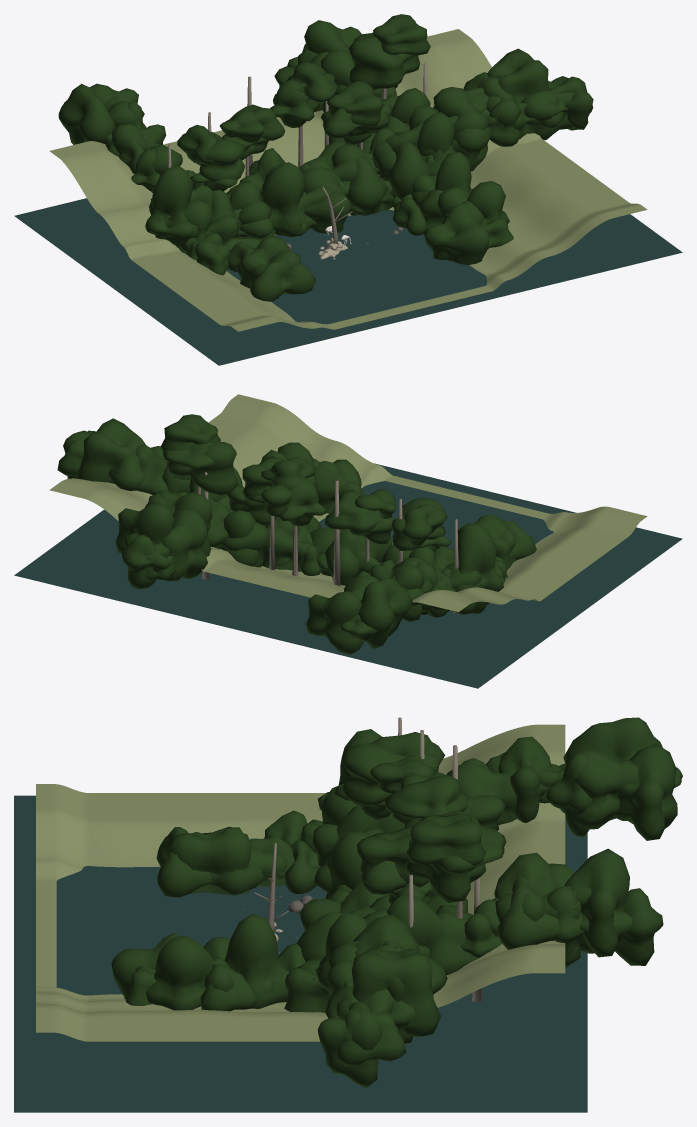
3 views of the same model, one above another, from view 1: azimuth 30°, elevation 25°; view 2: azimuth 150°, elevation 25°; view 3: azimuth 270°, elevation 25° (orthographic). The views are drawn at different scales.
Parts seen in each view (by area): view 1: Water.001, Ground.001, ShrubR_1.001, BCanopy_4_0.001, Shrub_20.001, ShrubL_23.001, Shrub_62.001, Shrub_1.001, ShrubL_0.001, BCanopy_4_2.001, Shrub_40.001, BCanopy_2_2.001 (+44 smaller); view 2: Water.001, Ground.001, Shrub_62.001, ShrubL_23.001, ShrubL_24.001, ShrubR_34.001, Shrub_1.001, BCanopy_4_0.001, ShrubR_36.001, ShrubR_1.001, ShrubR_39.001, BCanopy_4_2.001 (+30 smaller); view 3: Water.001, Ground.001, Shrub_62.001, ShrubR_36.001, ShrubL_24.001, ShrubR_8.001, ShrubR_2.001, BCanopy_4_2.001, ShrubL_1.001, ShrubL_22.001, Shrub_69.001, ShrubL_23.001 (+44 smaller).
Boxes of the visible parts, bbox=[...] form: Water.001: bbox=[14, 198, 682, 365]; Ground.001: bbox=[49, 29, 647, 331]; ShrubR_1.001: bbox=[424, 203, 490, 265]; BCanopy_4_0.001: bbox=[348, 37, 419, 90]; Shrub_20.001: bbox=[262, 162, 305, 237]; ShrubL_23.001: bbox=[58, 83, 115, 144]; Shrub_62.001: bbox=[487, 48, 549, 102]; Shrub_1.001: bbox=[145, 165, 193, 234]; ShrubL_0.001: bbox=[250, 260, 315, 301]; BCanopy_4_2.001: bbox=[373, 14, 430, 55]; Shrub_40.001: bbox=[373, 134, 431, 207]; BCanopy_2_2.001: bbox=[327, 81, 383, 126]; Water.001: bbox=[14, 463, 682, 688]; Ground.001: bbox=[49, 394, 647, 612]; Shrub_62.001: bbox=[76, 418, 145, 483]; ShrubL_23.001: bbox=[358, 577, 412, 648]; ShrubL_24.001: bbox=[305, 591, 363, 654]; ShrubR_34.001: bbox=[162, 509, 207, 581]; Shrub_1.001: bbox=[456, 523, 503, 613]; BCanopy_4_0.001: bbox=[166, 441, 237, 495]; ShrubR_36.001: bbox=[115, 503, 174, 553]; ShrubR_1.001: bbox=[314, 459, 363, 513]; ShrubR_39.001: bbox=[122, 534, 169, 588]; BCanopy_4_2.001: bbox=[161, 414, 220, 451]; Water.001: bbox=[14, 795, 587, 1112]; Ground.001: bbox=[36, 724, 565, 1041]; Shrub_62.001: bbox=[351, 947, 440, 1036]; ShrubR_36.001: bbox=[564, 848, 629, 957]; ShrubL_24.001: bbox=[614, 744, 677, 840]; ShrubR_8.001: bbox=[224, 914, 289, 1008]; ShrubR_2.001: bbox=[145, 936, 213, 1010]; BCanopy_4_2.001: bbox=[406, 814, 486, 865]; ShrubL_1.001: bbox=[169, 826, 251, 895]; ShrubL_22.001: bbox=[563, 749, 638, 829]; Shrub_69.001: bbox=[317, 1009, 382, 1087]; ShrubL_23.001: bbox=[563, 717, 662, 764].
Size of the model in its own units: 36.16 by 12.48 by 30.33.
